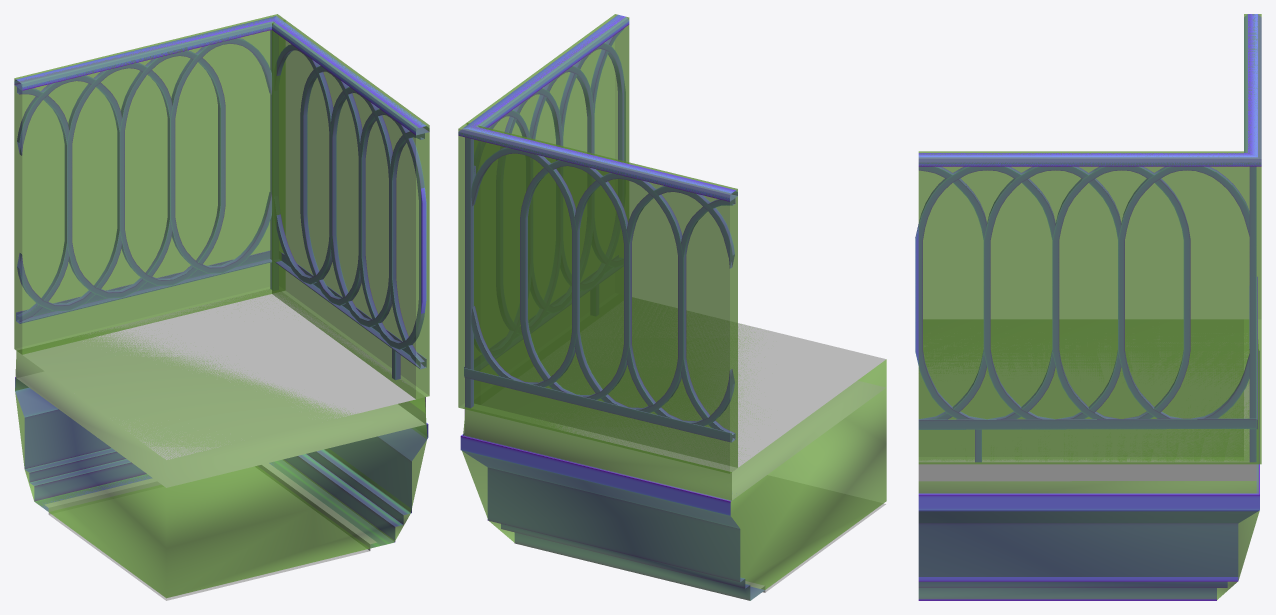
File: F_md_Balcony_L_90crn_03.fbx
3 renders of one model, left to right at view 1: azimuth 30°, elevation 25°; view 2: azimuth 150°, elevation 25°; view 3: azimuth 270°, elevation 25°, orthographic. The views are drawn at different scales.
Parts seen in each view (by area): view 1: F_md_Balcony_L_90crn_03_LOD0, F_md_Balcony_L_90crn_03_col_03, F_md_Balcony_L_90crn_03_col_01, F_md_Balcony_L_90crn_03_col_02; view 2: F_md_Balcony_L_90crn_03_LOD0, F_md_Balcony_L_90crn_03_col_01, F_md_Balcony_L_90crn_03_col_03, F_md_Balcony_L_90crn_03_col_02; view 3: F_md_Balcony_L_90crn_03_col_02, F_md_Balcony_L_90crn_03_LOD0, F_md_Balcony_L_90crn_03_col_03, F_md_Balcony_L_90crn_03_col_01.
Part boxes in pixels (box(x1,y1,x2,y2)): F_md_Balcony_L_90crn_03_LOD0: box(14, 16, 429, 600); F_md_Balcony_L_90crn_03_col_03: box(15, 300, 427, 598); F_md_Balcony_L_90crn_03_col_01: box(14, 14, 285, 354); F_md_Balcony_L_90crn_03_col_02: box(272, 20, 429, 399); F_md_Balcony_L_90crn_03_LOD0: box(458, 14, 885, 600); F_md_Balcony_L_90crn_03_col_01: box(458, 122, 737, 473); F_md_Balcony_L_90crn_03_col_03: box(462, 324, 886, 600); F_md_Balcony_L_90crn_03_col_02: box(467, 14, 629, 404); F_md_Balcony_L_90crn_03_col_02: box(918, 151, 1243, 464); F_md_Balcony_L_90crn_03_LOD0: box(915, 14, 1261, 600); F_md_Balcony_L_90crn_03_col_03: box(918, 320, 1259, 599); F_md_Balcony_L_90crn_03_col_01: box(1244, 14, 1261, 464).
Size of what is drawn, in the model's own units: 99.93 by 149 by 101.
